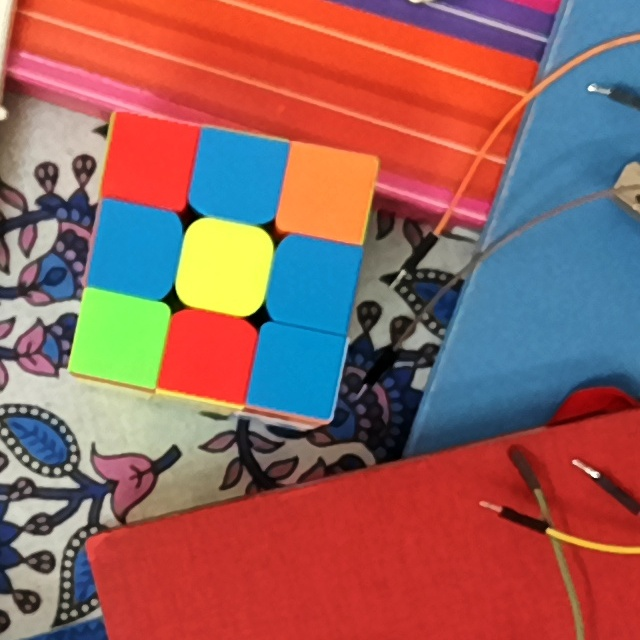tile: (294, 155, 365, 227), (202, 140, 273, 211), (84, 302, 154, 371), (102, 214, 170, 285), (174, 322, 243, 390), (116, 126, 182, 197), (263, 339, 334, 405), (191, 232, 259, 300), (281, 248, 347, 317)
